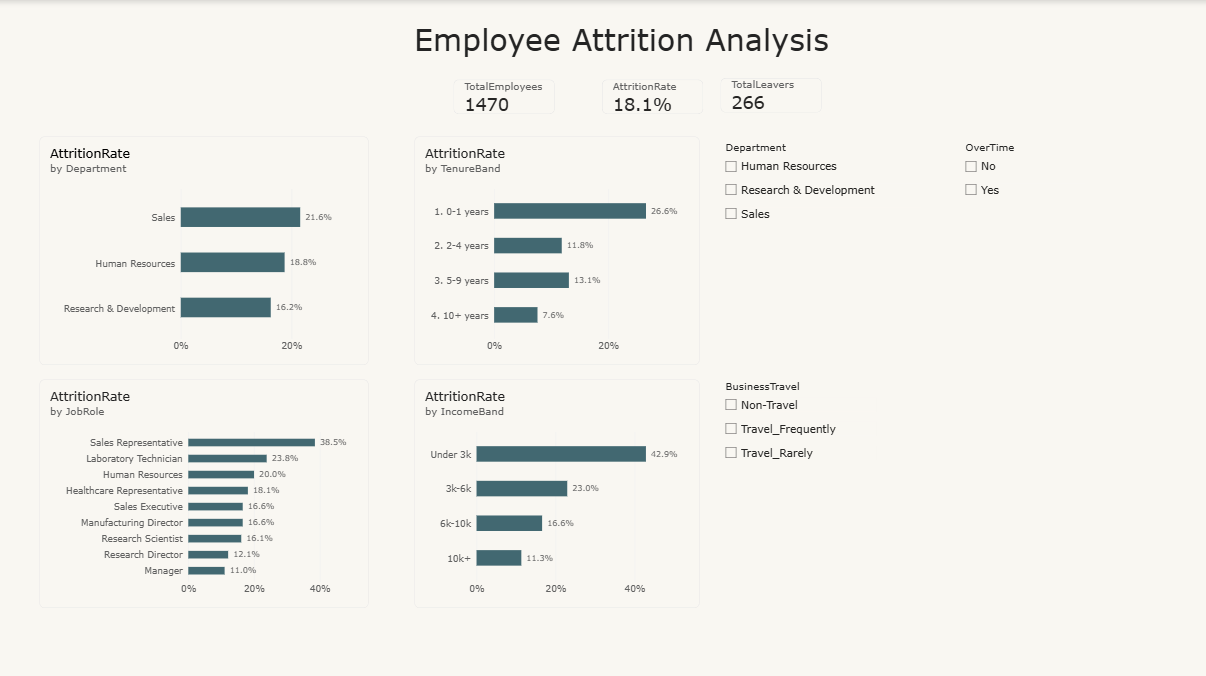

The dashboard page shown, as its layout file describes it:
{"tool":"powerbi","page":{"name":"Page 1","canvas":[1920,1080],"ordinal":0},"visuals":[{"type":"cardVisual","fields":{"Data":["employees.TotalEmployees"]},"box":[724,126,161.7,55],"z":1},{"type":"cardVisual","fields":{"Data":["employees.AttritionRate"]},"box":[960,126,161.7,55],"z":2},{"type":"clusteredBarChart","fields":{"Category":["employees.TenureBand"],"Y":["employees.AttritionRate"]},"box":[660,216.7,453.3,363.3],"z":3},{"type":"clusteredBarChart","fields":{"Category":["employees.IncomeBand"],"Y":["employees.AttritionRate"]},"box":[660,603.3,453.3,363.3],"z":4},{"type":"slicer","fields":{"Values":["employees.Department"]},"box":[1146.7,223.3,320,246],"z":5},{"type":"slicer","fields":{"Values":["employees.OverTime"]},"box":[1530,223.3,198,142],"z":6},{"type":"slicer","fields":{"Values":["employees.BusinessTravel"]},"box":[1146.7,603.3,248,142],"z":7},{"type":"textbox","box":[588.9,33.3,784.4,73.3],"z":8},{"type":"clusteredBarChart","title":"AttritionRate","fields":{"Category":["employees.Department"],"Y":["employees.AttritionRate"]},"box":[63.3,216.7,523.3,363.3],"z":9},{"type":"clusteredBarChart","fields":{"Category":["employees.JobRole"],"Y":["employees.AttritionRate"]},"box":[63.3,603.3,523.3,363.3],"z":10}]}

Visuals, with their boxes in screenshot pixels (x1, y1, x2, y2), scaled from the page's 1920x1080 canvas onto the 1206x676 screenshot:
cardVisual - employees.TotalEmployees: region(455, 79, 556, 113)
cardVisual - employees.AttritionRate: region(603, 79, 705, 113)
clusteredBarChart - employees.TenureBand x employees.AttritionRate: region(415, 136, 699, 363)
clusteredBarChart - employees.IncomeBand x employees.AttritionRate: region(415, 378, 699, 605)
slicer - employees.Department: region(720, 140, 921, 294)
slicer - employees.OverTime: region(961, 140, 1085, 229)
slicer - employees.BusinessTravel: region(720, 378, 876, 467)
textbox: region(370, 21, 863, 67)
"AttritionRate" clusteredBarChart: region(40, 136, 368, 363)
clusteredBarChart - employees.JobRole x employees.AttritionRate: region(40, 378, 368, 605)
